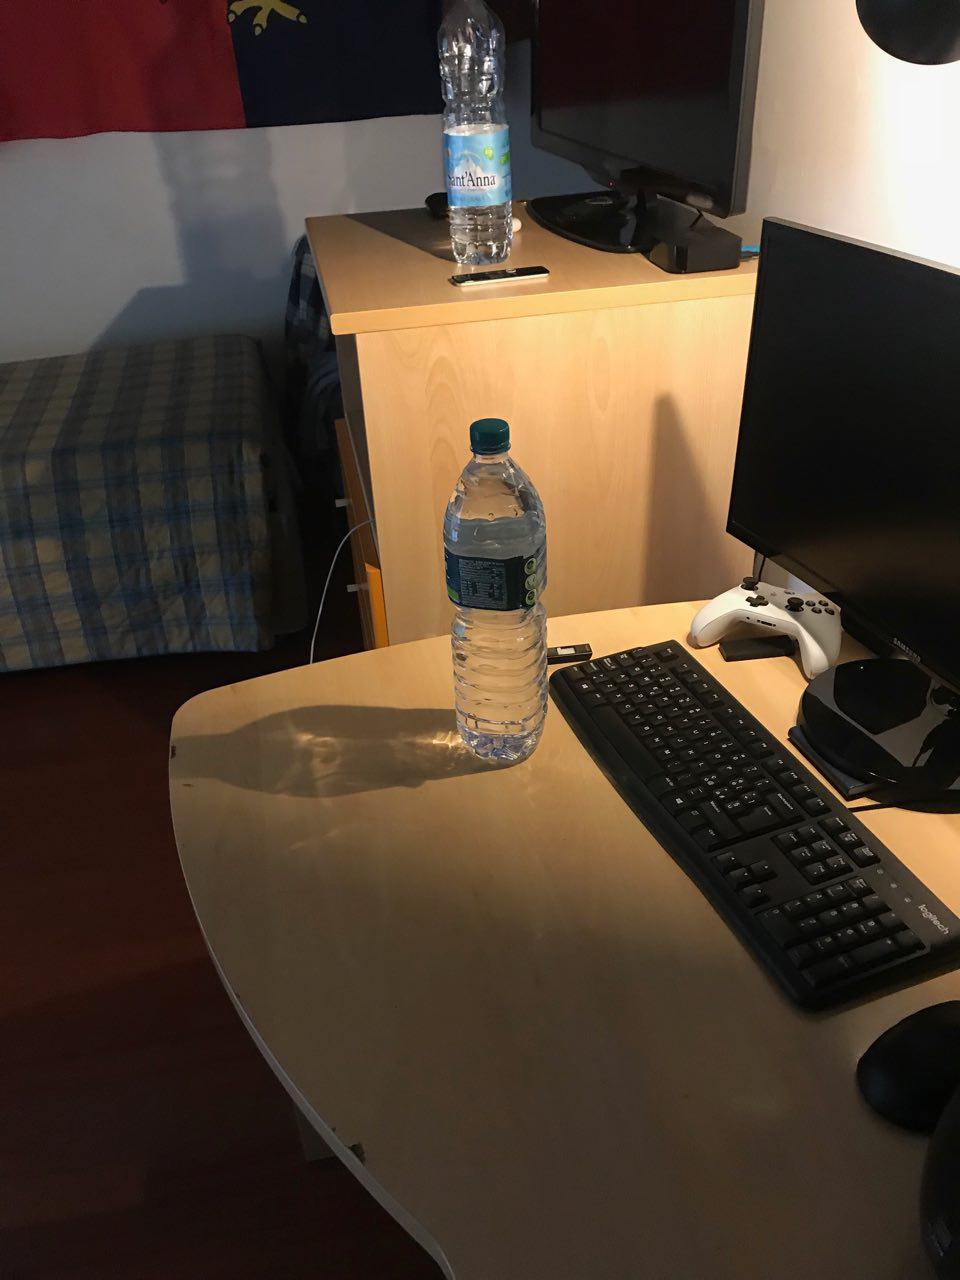san_bernardo: (442, 417, 549, 762)
